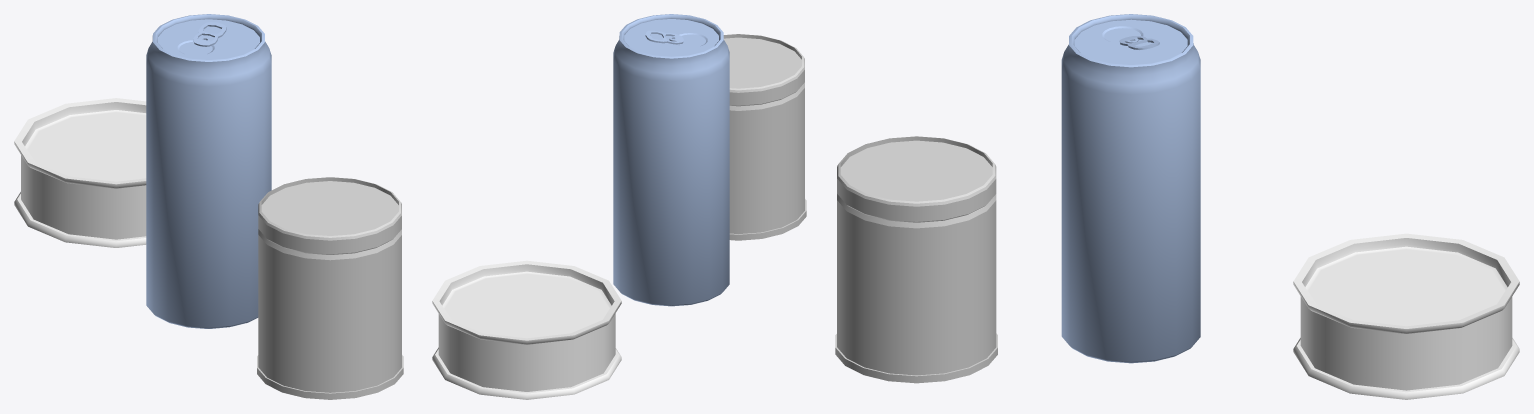
Rendered from Cans.FBX.
3 views of the same model, side by side, from view 1: azimuth 30°, elevation 25°; view 2: azimuth 150°, elevation 25°; view 3: azimuth 270°, elevation 25° (orthographic). The views are drawn at different scales.
Parts seen in each view (by area): view 1: Can_2, Can_1, Can_3; view 2: Can_2, Can_3, Can_1; view 3: Can_2, Can_1, Can_3.
Part boxes in pixels (box(x1,y1,x2,y2)): Can_2: box(146, 14, 271, 328); Can_1: box(257, 177, 403, 399); Can_3: box(14, 98, 146, 247); Can_2: box(613, 14, 729, 306); Can_3: box(432, 260, 621, 399); Can_1: box(723, 34, 806, 240); Can_2: box(1061, 14, 1200, 363); Can_1: box(835, 136, 997, 383); Can_3: box(1293, 233, 1519, 399).
Size of the model in its own units: 9.2 by 13.76 by 27.82.
